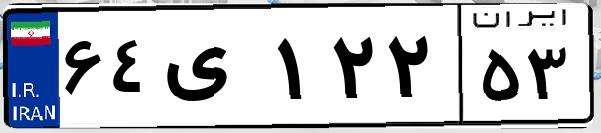1: (270, 28, 330, 110)
2: (385, 28, 445, 110), (330, 28, 385, 110)
3: (525, 38, 570, 115)
4: (110, 28, 158, 98)
5: (475, 38, 525, 113)
6: (57, 26, 110, 100)
ی: (158, 20, 270, 120)
